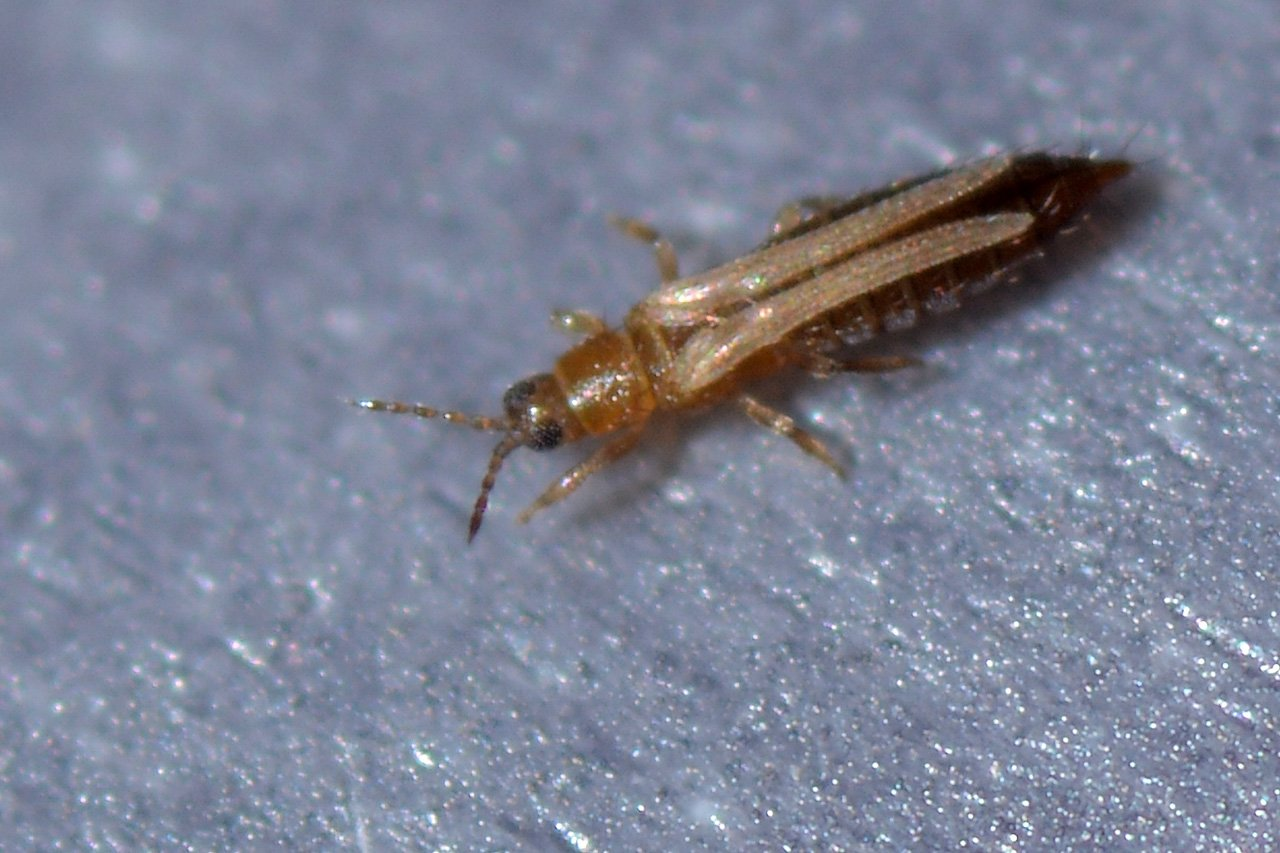Thripidae: (340, 130, 1146, 544)
